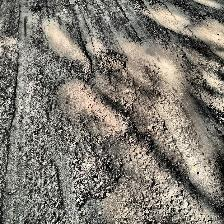pothole: (69, 154, 121, 206), (99, 50, 127, 72), (128, 0, 148, 12), (28, 5, 42, 13)
